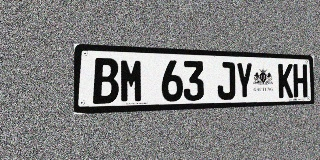3: (184, 61, 204, 101)
6: (162, 60, 183, 102)
B: (93, 58, 119, 104)
H: (293, 64, 307, 98)
J: (217, 62, 235, 100)
K: (278, 63, 293, 98)
M: (120, 59, 144, 103)
Y: (236, 62, 253, 99)
